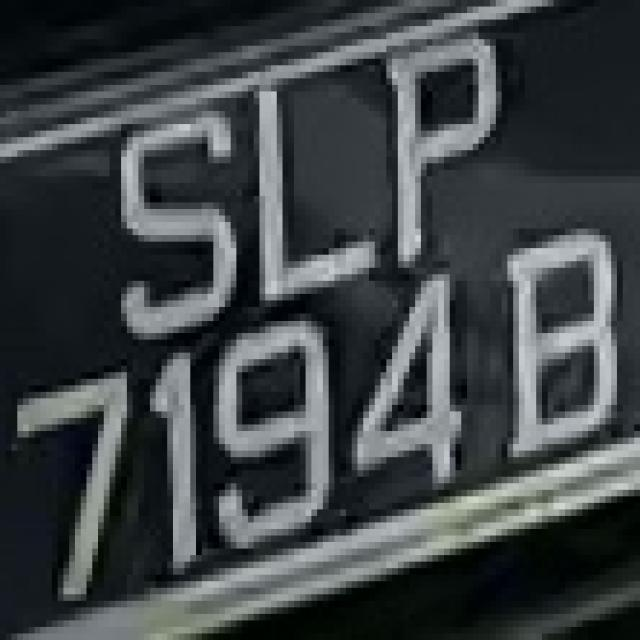1: (138, 340, 214, 588)
4: (346, 268, 467, 503)
7: (12, 352, 138, 620)
9: (213, 320, 346, 542)
B: (490, 228, 629, 451)
L: (237, 52, 381, 327)
P: (387, 26, 508, 268)
S: (104, 92, 242, 346)
